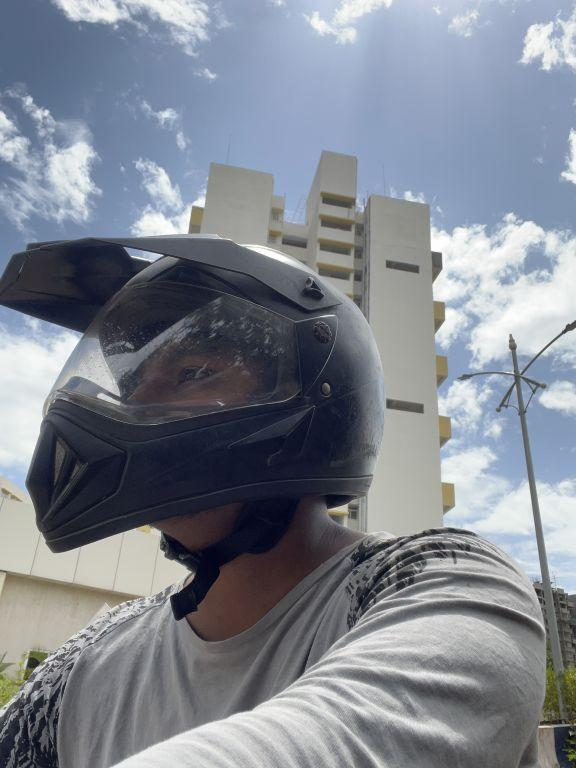helmet: (0, 214, 389, 559)
